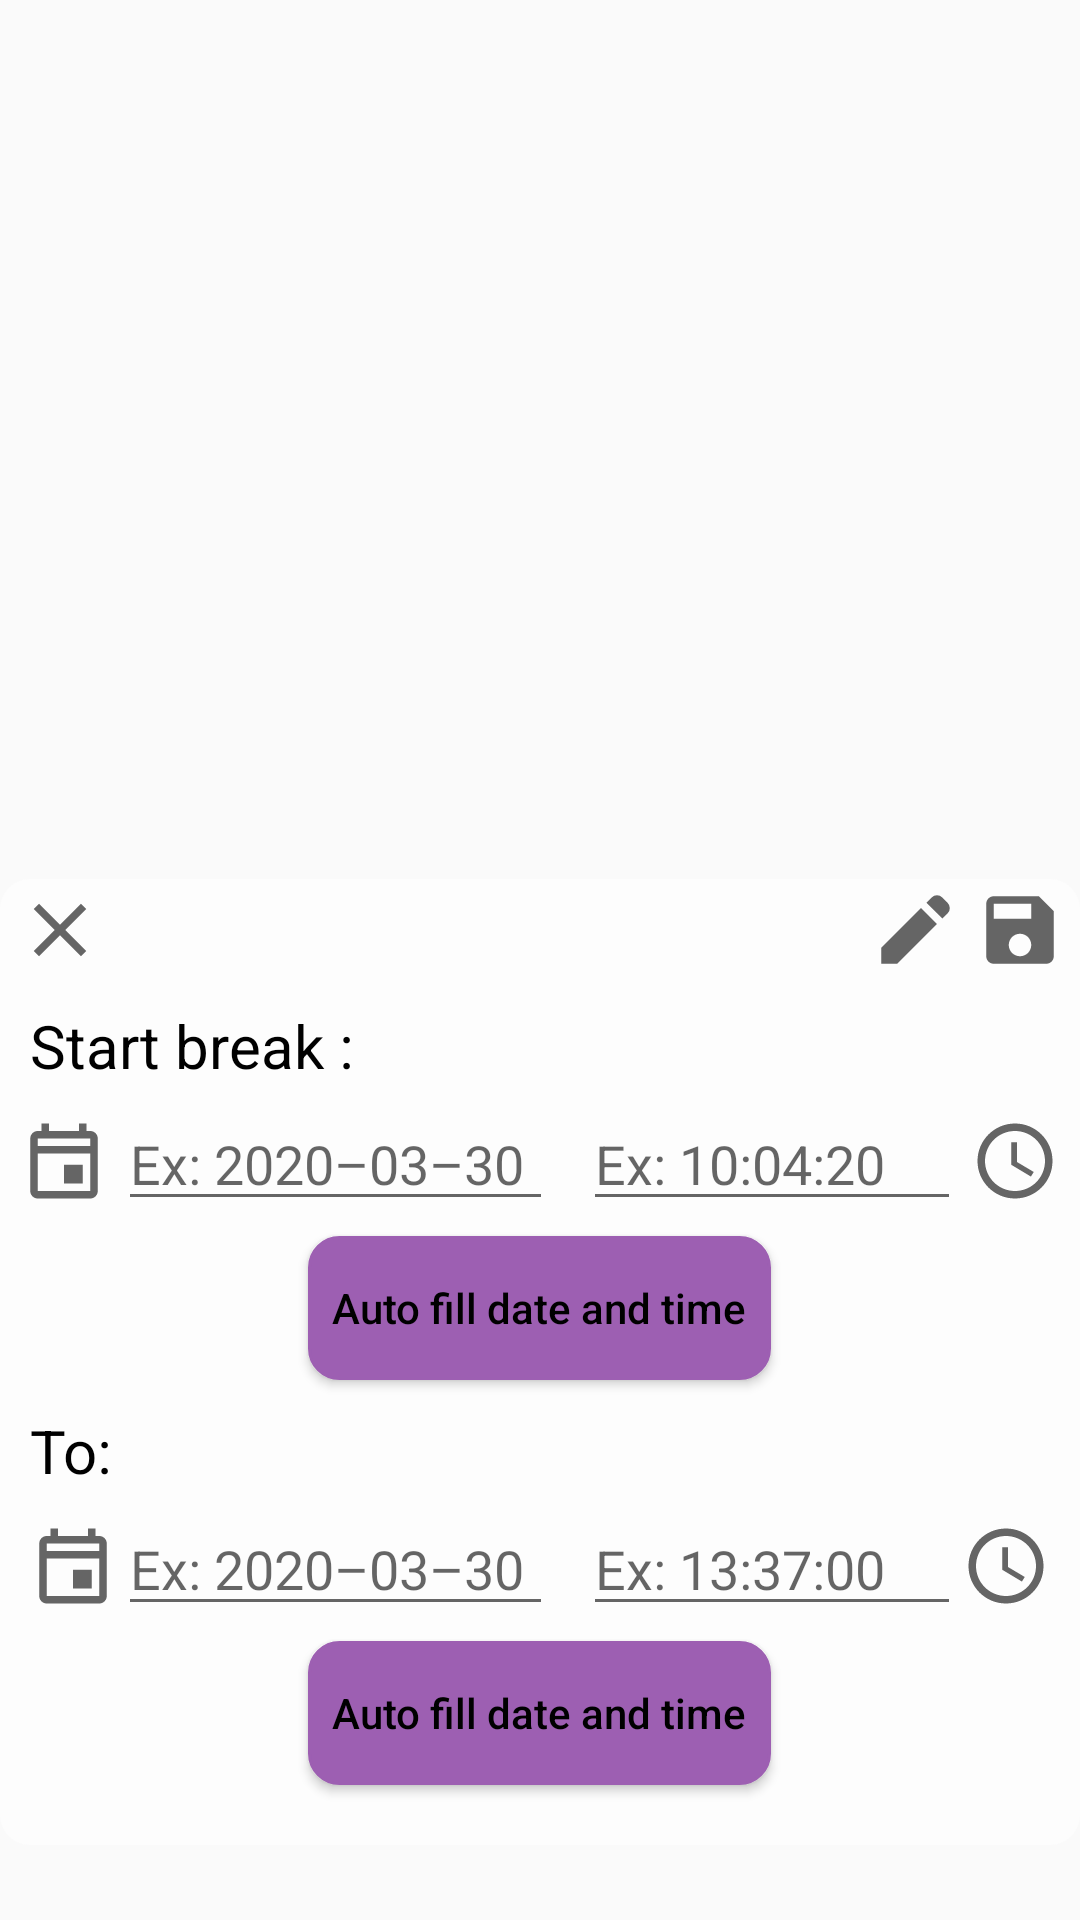

Where icons sit on this 1080*1920 app screen, as bbox=(x1, y1, x2, y2):
Calendar icon: bbox=(30, 1123, 98, 1199), bbox=(39, 1528, 107, 1604)
Clock icon: bbox=(977, 1123, 1053, 1199), bbox=(968, 1528, 1044, 1604)
close icon: bbox=(34, 904, 86, 956)
Manual edit icon: bbox=(881, 895, 950, 964)
Save icon: bbox=(986, 896, 1054, 964)
